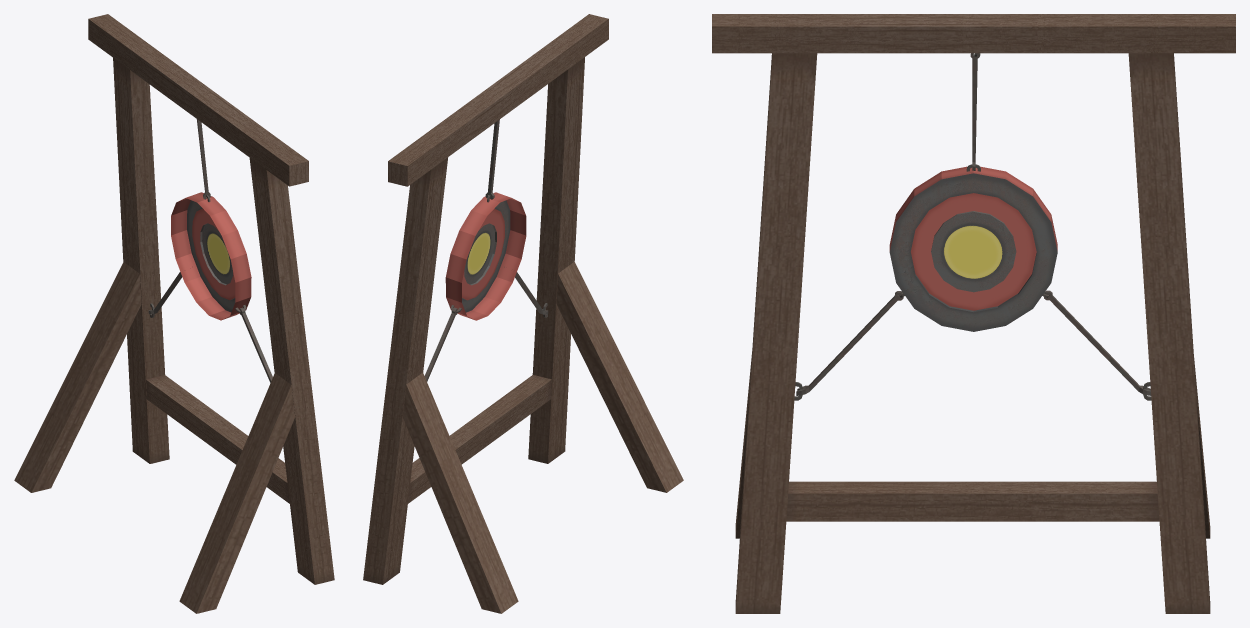
File: Diana.fbx
3 renders of one model, left to right at view 1: azimuth 30°, elevation 25°; view 2: azimuth 150°, elevation 25°; view 3: azimuth 270°, elevation 25°, orthographic. The views are drawn at different scales.
Visible parts, largest first — view 1: Cube, Cube.001, Cube.014, Cube.013, Cube.002, Cube.009, Cube.003; view 2: Cube.001, Cube, Cube.013, Cube.002, Cube.014, Cube.009, Cube.003, Cube.012; view 3: Cube, Cube.001, Cube.009, Cube.002, Cube.003, Cube.010, Cube.011.
Boxes of the visible parts, x1,y1,x2,y2 form: Cube: (249,158,334,584); Cube.001: (113,58,169,463); Cube.014: (179,373,295,613); Cube.013: (14,262,141,492); Cube.002: (88,14,308,186); Cube.009: (171,192,251,320); Cube.003: (146,375,289,503); Cube.001: (363,157,447,584); Cube: (528,57,584,463); Cube.013: (402,372,518,613); Cube.002: (388,14,608,186); Cube.014: (556,262,683,492); Cube.009: (445,192,526,320); Cube.003: (408,375,551,503); Cube.012: (485,119,499,199); Cube: (735,53,817,613); Cube.001: (1128,53,1210,613); Cube.009: (889,164,1057,331); Cube.002: (712,14,1235,53); Cube.003: (786,481,1159,521); Cube.010: (1044,290,1151,395); Cube.011: (796,291,903,395).
Bounding box in the file's own units: 140 × 420 × 353.
